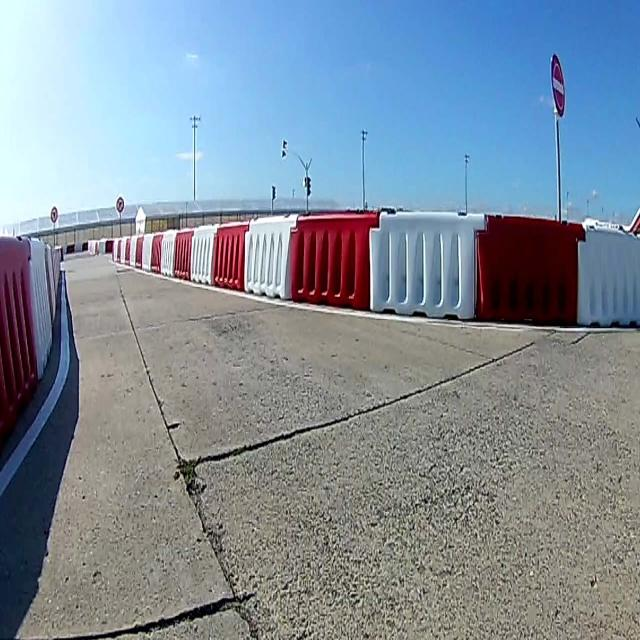girisyok: (548, 51, 568, 118)
